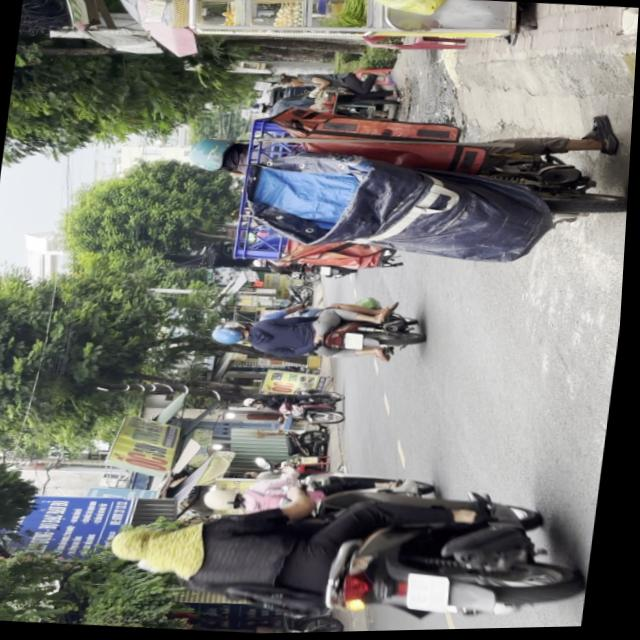helmet: (184, 137, 243, 176), (204, 487, 249, 515), (212, 324, 253, 350)
licenseplate: (168, 85, 636, 289), (99, 459, 596, 638), (201, 456, 451, 538), (208, 291, 430, 374)
motorcyclist: (109, 513, 220, 585)
nohelmet: (409, 574, 457, 615), (346, 334, 366, 352)
